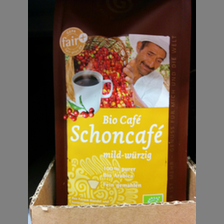coffee: (51, 1, 193, 207)
